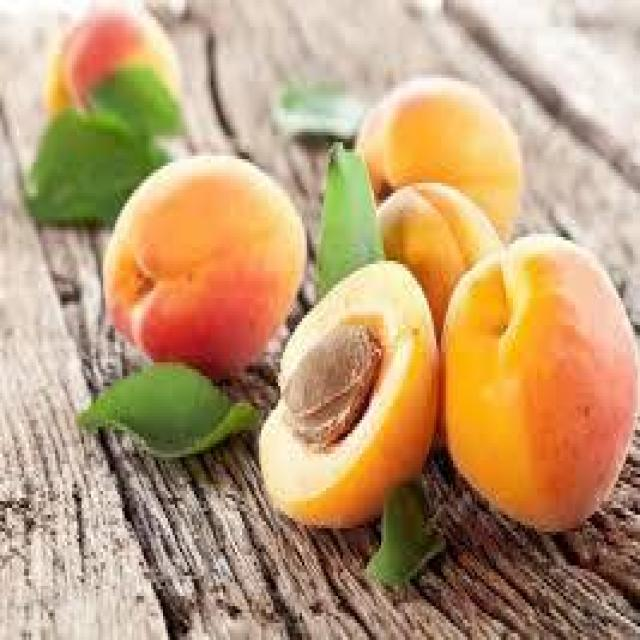cekirdek: (279, 313, 386, 457)
kayisi: (435, 232, 639, 538), (98, 151, 315, 385), (256, 263, 442, 531)
yaprak: (74, 360, 256, 466)
